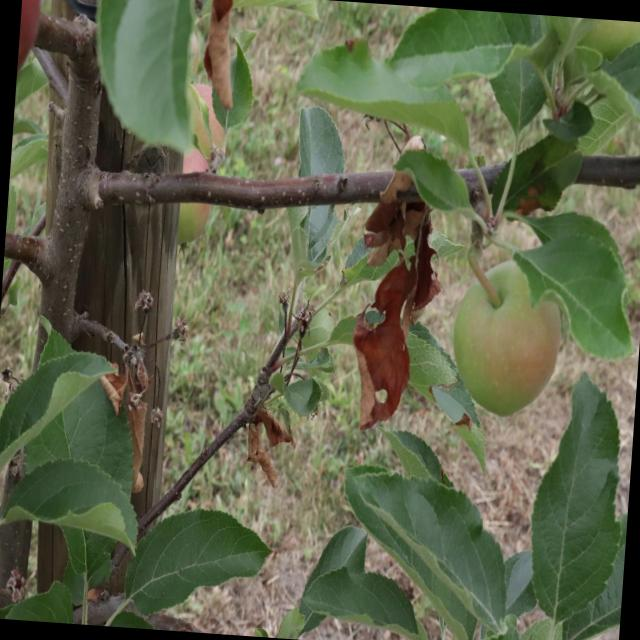-FireBlight-: (353, 150, 438, 430), (88, 353, 154, 496), (186, 0, 244, 108), (232, 388, 288, 454)
